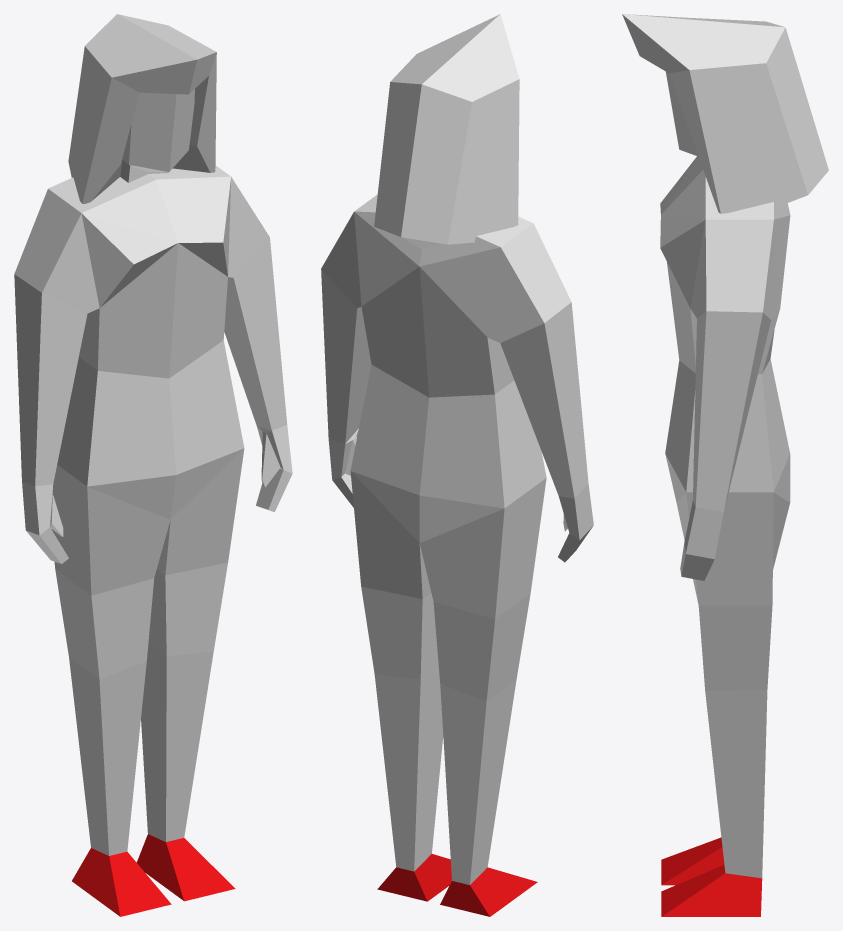
The model's file is woman01.fbx.
The picture shows the model from 3 angles, left to right: view 1: azimuth 30°, elevation 25°; view 2: azimuth 150°, elevation 25°; view 3: azimuth 270°, elevation 25°; orthographic projection. The views are drawn at different scales.
Visible parts, largest first — view 1: woman_01; view 2: woman_01; view 3: woman_01.
Boxes of the visible parts, bbox=[...] form: woman_01: bbox=[14, 14, 292, 916]; woman_01: bbox=[321, 14, 593, 916]; woman_01: bbox=[622, 14, 828, 916].
Bounding box in the file's own units: 0.5219 × 0.3624 × 1.69.
